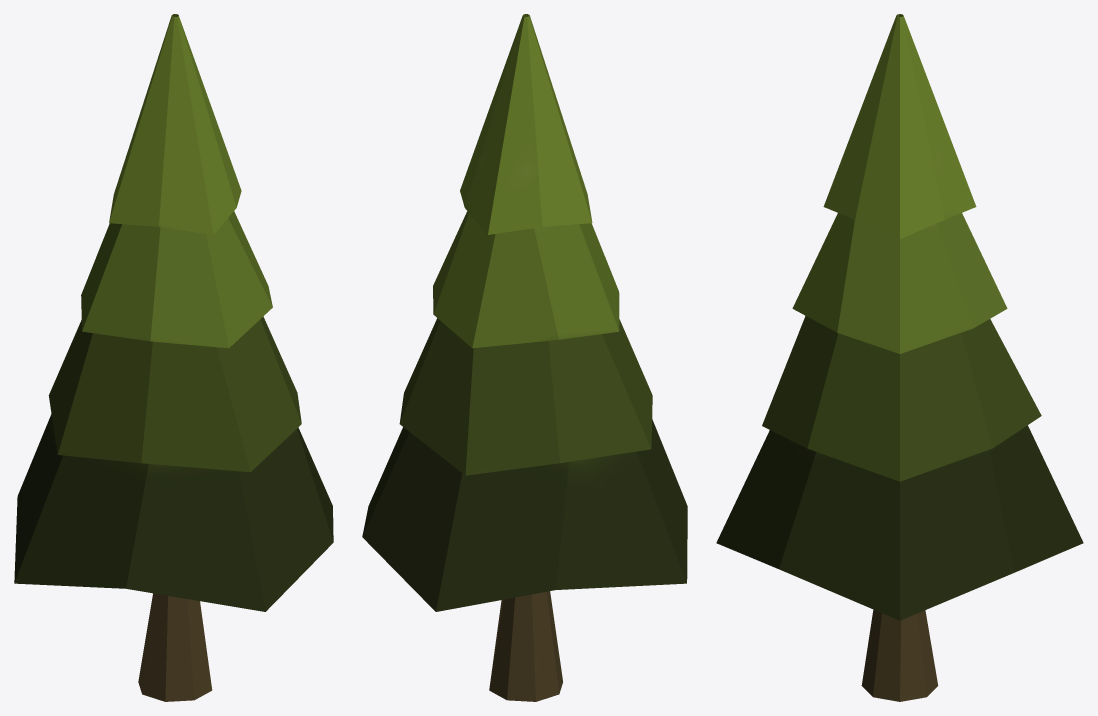
Rendered from Pine_Tree.glb.
3 views of the same model, side by side, from view 1: azimuth 30°, elevation 25°; view 2: azimuth 150°, elevation 25°; view 3: azimuth 270°, elevation 25° (orthographic).
Visible parts, largest first — view 1: Pine_Tree; view 2: Pine_Tree; view 3: Pine_Tree.
Boxes of the visible parts, left/top/right/bottom form: Pine_Tree: left=14, top=14, right=333, bottom=701; Pine_Tree: left=362, top=14, right=687, bottom=701; Pine_Tree: left=716, top=14, right=1083, bottom=701.
Bounding box in the file's own units: 19.81 × 39.85 × 19.81.
Materials: 1 (1 with a texture image).
